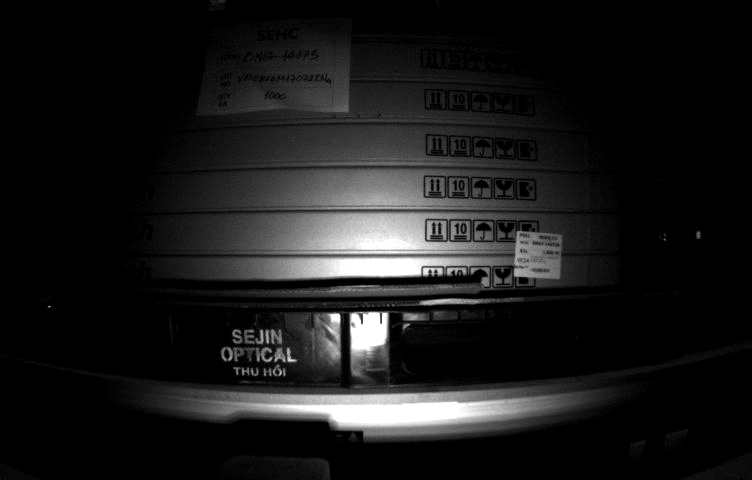True Barcode: (511, 229, 560, 280)
